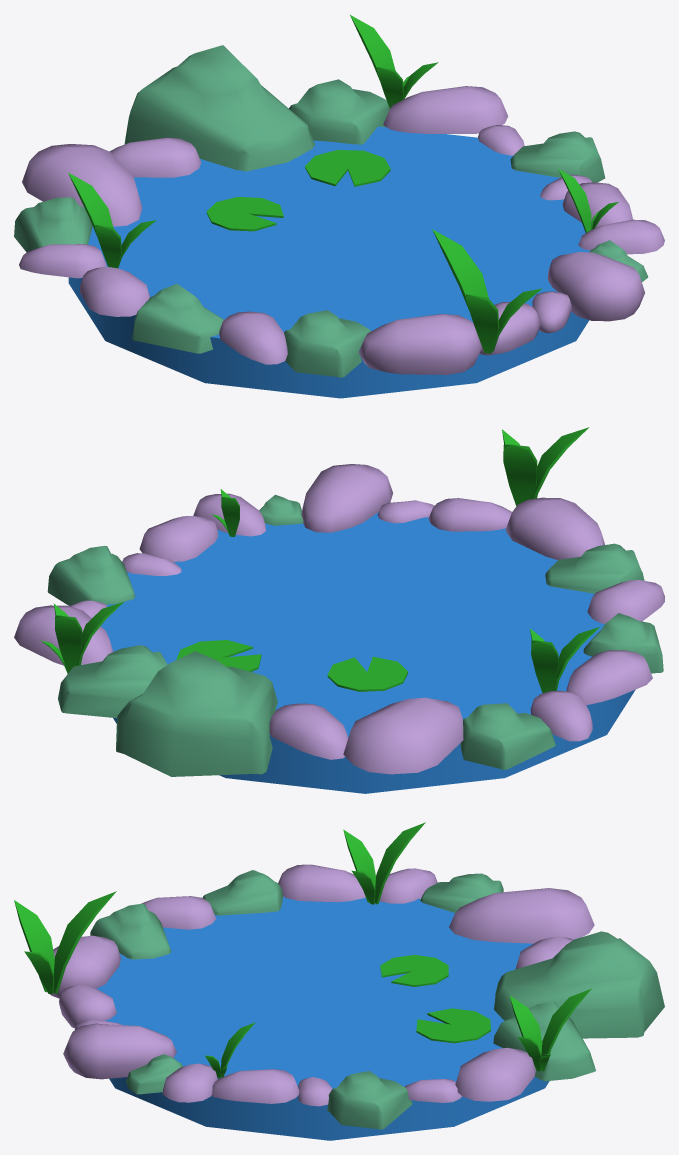
Rendered from ao ca tieu canh.FBX.
3 renders of one model, top to bottom at view 1: azimuth 30°, elevation 25°; view 2: azimuth 150°, elevation 25°; view 3: azimuth 270°, elevation 25°, orthographic. The views are drawn at different scales.
Visible parts, largest first — view 1: Cylinder252; view 2: Cylinder252; view 3: Cylinder252.
Part boxes in pixels (x1,y1,x2,y2): Cylinder252: (14, 15, 664, 398); Cylinder252: (14, 427, 664, 793); Cylinder252: (14, 822, 664, 1140).
Size of the model in its own units: 4.97 by 1.26 by 5.58.
